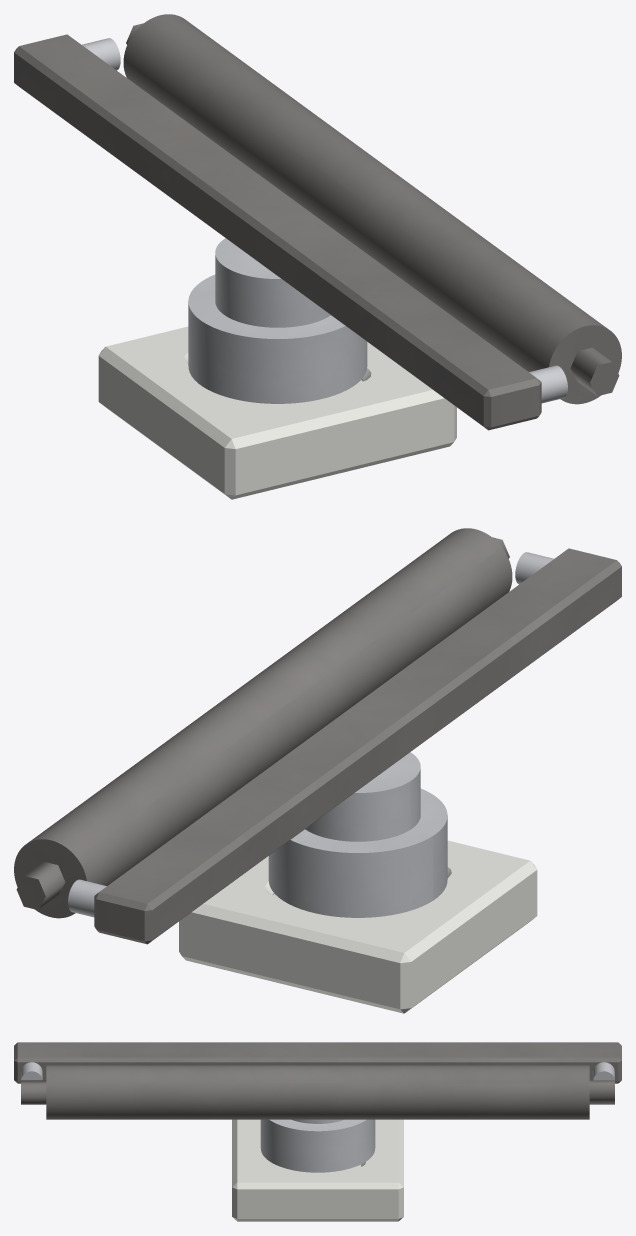
Rendered from ax_power_01_roll_out_array_m.glb.
The picture shows the model from 3 angles, top to bottom: view 1: azimuth 30°, elevation 25°; view 2: azimuth 150°, elevation 25°; view 3: azimuth 270°, elevation 25°; orthographic projection. The views are drawn at different scales.
Parts seen in each view (by area): view 1: panel_roll, yoke, mount_block, gimbal, boom_1, boom_2; view 2: panel_roll, yoke, mount_block, gimbal, boom_2, boom_1; view 3: panel_roll, yoke, mount_block, gimbal, boom_1, boom_2.
Boxes of the visible parts, <box> form: panel_roll: <box>123,14,621,404</box>; yoke: <box>14,34,541,430</box>; mount_block: <box>98,326,456,499</box>; gimbal: <box>188,238,367,403</box>; boom_1: <box>529,365,567,403</box>; boom_2: <box>82,38,120,70</box>; panel_roll: <box>14,528,512,918</box>; yoke: <box>94,548,621,944</box>; mount_block: <box>179,840,537,1013</box>; gimbal: <box>268,752,447,917</box>; boom_2: <box>68,879,106,917</box>; boom_1: <box>515,552,553,584</box>; panel_roll: <box>21,1065,614,1119</box>; yoke: <box>14,1042,621,1083</box>; mount_block: <box>232,1119,403,1221</box>; gimbal: <box>260,1119,375,1172</box>; boom_1: <box>21,1062,42,1080</box>; boom_2: <box>593,1062,614,1080</box>.
Size of the model in its own units: 0.512 by 0.46 by 1.7.
3 materials, 2 textured.
